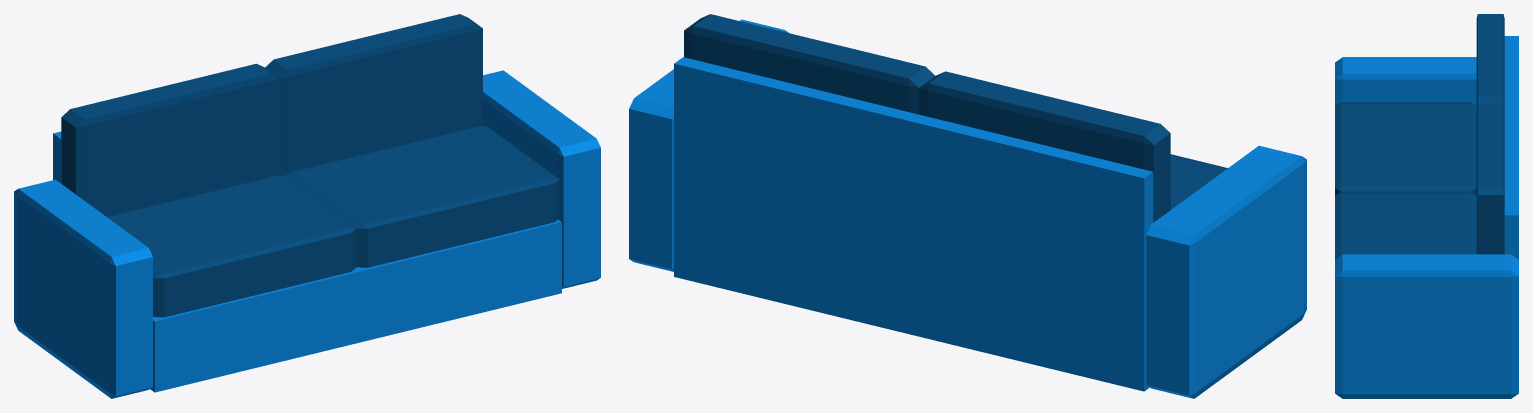
The model's file is canape2.fbx.
3 views of the same model, side by side, from view 1: azimuth 30°, elevation 25°; view 2: azimuth 150°, elevation 25°; view 3: azimuth 270°, elevation 25° (orthographic). The views are drawn at different scales.
Visible parts, largest first — view 1: Canape2.002; view 2: Canape2.002; view 3: Canape2.002.
Boxes of the visible parts, x1,y1,x2,y2 form: Canape2.002: [14, 14, 600, 398]; Canape2.002: [629, 14, 1306, 398]; Canape2.002: [1335, 14, 1518, 398].
Size of the model in its own units: 720 by 300 by 260.
